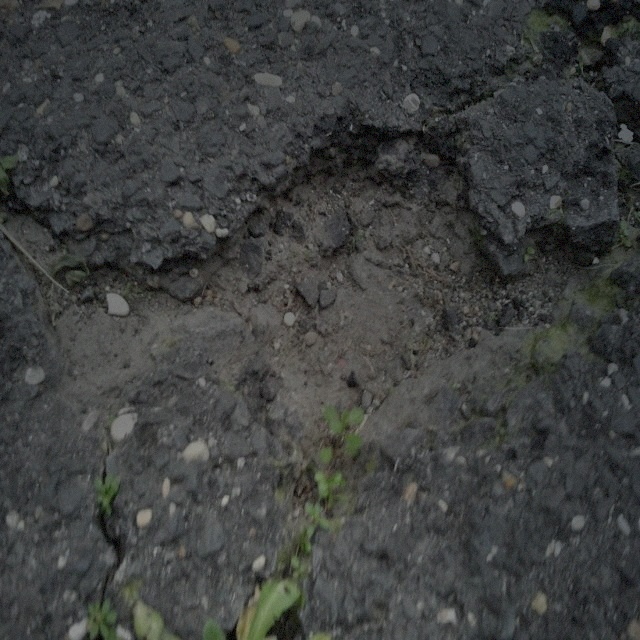pothole: (181, 105, 529, 470)
